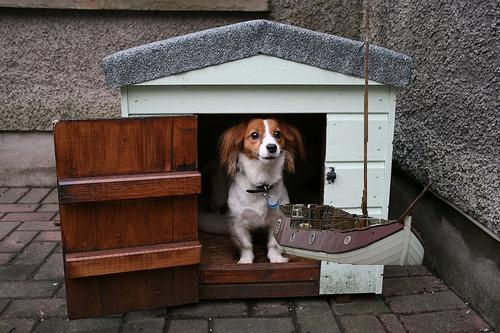tampered: (273, 7, 433, 265)
